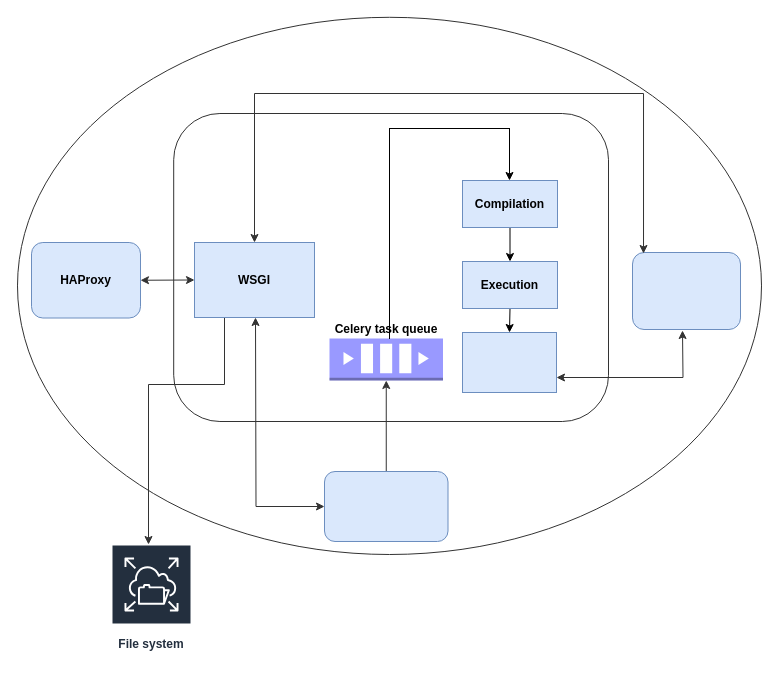
Image size: 779x673. Some labels were removed from this diagram. The shapes that lost their labels are listed below. From the top down, each one's box as (x1, y1, x2, y2) in pixels, then its label:
(632, 252, 740, 330): Postgres Db
(462, 332, 556, 392): Compare outputs
(324, 470, 448, 542): Redis
